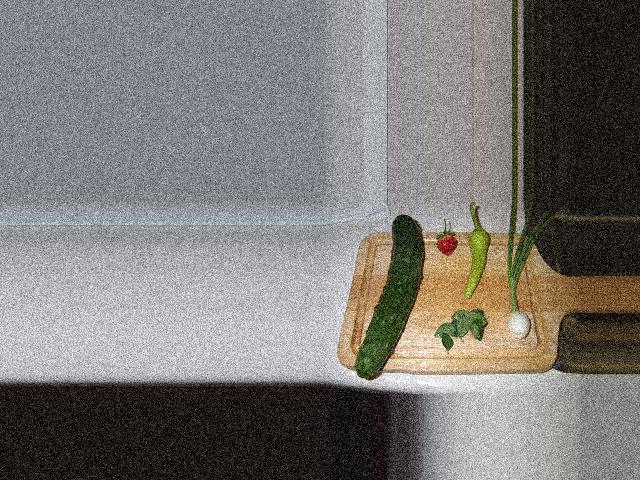cucumber: (354, 215, 423, 378)
